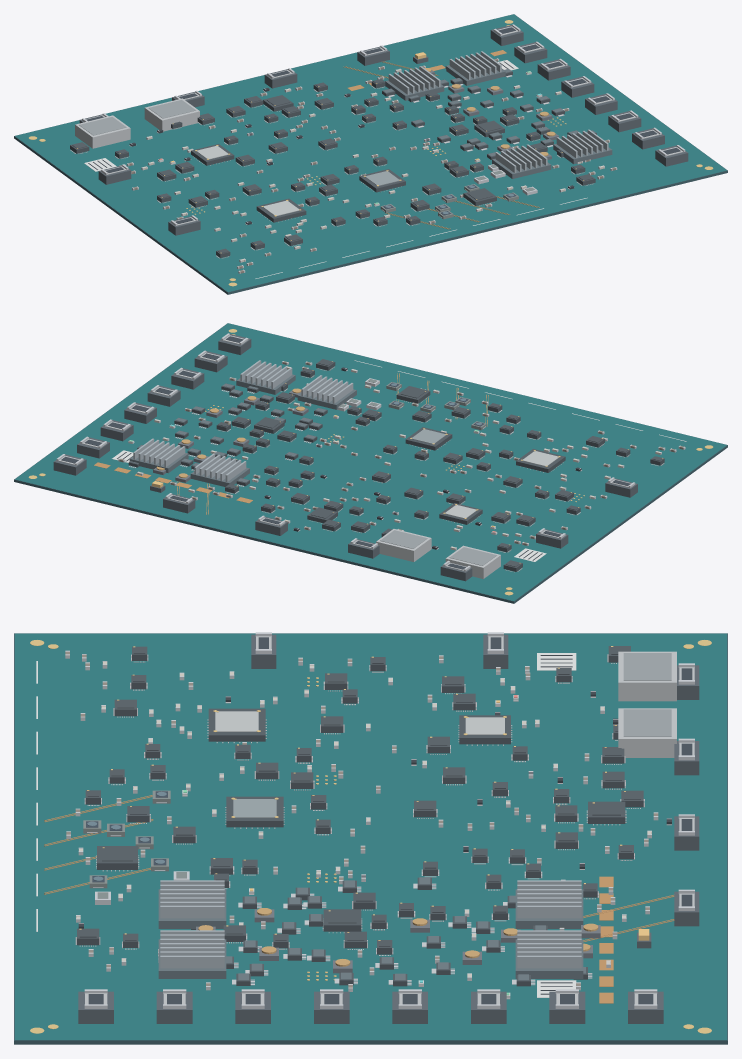
Rendered from 337_L121_AssembledReference.glb.
The picture shows the model from 3 angles, top to bottom: view 1: azimuth 30°, elevation 25°; view 2: azimuth 150°, elevation 25°; view 3: azimuth 270°, elevation 25°; orthographic projection. The views are drawn at different scales.
Parts seen in each view (by area): view 1: solder_mask__PSMAT__solder_mask, black_ic__PSMAT__black_ic, connector_housing__PSMAT__connector_housing, heat_sink__PSMAT__heat_sink, tin__PSMAT__tin, pcb_core__PSMAT__pcb_core, heat_sink_black__PSMAT__heat_sink_black, shield__PSMAT__shield, silver__PSMAT__silver, shield_dark__PSMAT__shield_dark, optic_black__PSMAT__optic_black, resistor__PSMAT__resistor (+7 smaller); view 2: solder_mask__PSMAT__solder_mask, black_ic__PSMAT__black_ic, connector_housing__PSMAT__connector_housing, heat_sink__PSMAT__heat_sink, tin__PSMAT__tin, pcb_core__PSMAT__pcb_core, heat_sink_black__PSMAT__heat_sink_black, shield__PSMAT__shield, silver__PSMAT__silver, shield_dark__PSMAT__shield_dark, optic_black__PSMAT__optic_black, resistor__PSMAT__resistor (+7 smaller); view 3: solder_mask__PSMAT__solder_mask, black_ic__PSMAT__black_ic, connector_housing__PSMAT__connector_housing, heat_sink__PSMAT__heat_sink, tin__PSMAT__tin, heat_sink_black__PSMAT__heat_sink_black, pcb_core__PSMAT__pcb_core, shield__PSMAT__shield, silver__PSMAT__silver, shield_dark__PSMAT__shield_dark, copper__PSMAT__copper, optic_black__PSMAT__optic_black (+10 smaller).
Boxes of the visible parts, <box> form: solder_mask__PSMAT__solder_mask: <box>15,14,726,292</box>; black_ic__PSMAT__black_ic: <box>70,69,596,257</box>; connector_housing__PSMAT__connector_housing: <box>79,25,688,235</box>; heat_sink__PSMAT__heat_sink: <box>388,51,608,172</box>; tin__PSMAT__tin: <box>70,58,617,273</box>; pcb_core__PSMAT__pcb_core: <box>14,14,727,294</box>; heat_sink_black__PSMAT__heat_sink_black: <box>383,65,612,178</box>; shield__PSMAT__shield: <box>75,26,682,225</box>; silver__PSMAT__silver: <box>82,24,685,225</box>; shield_dark__PSMAT__shield_dark: <box>79,100,195,135</box>; optic_black__PSMAT__optic_black: <box>86,27,680,223</box>; resistor__PSMAT__resistor: <box>121,58,615,273</box>; solder_mask__PSMAT__solder_mask: <box>15,323,726,601</box>; black_ic__PSMAT__black_ic: <box>128,359,664,571</box>; connector_housing__PSMAT__connector_housing: <box>53,334,637,581</box>; heat_sink__PSMAT__heat_sink: <box>133,360,353,481</box>; tin__PSMAT__tin: <box>118,361,685,572</box>; pcb_core__PSMAT__pcb_core: <box>14,323,727,603</box>; heat_sink_black__PSMAT__heat_sink_black: <box>129,374,356,486</box>; shield__PSMAT__shield: <box>59,335,631,578</box>; silver__PSMAT__silver: <box>56,333,635,571</box>; shield_dark__PSMAT__shield_dark: <box>380,530,496,565</box>; optic_black__PSMAT__optic_black: <box>61,336,630,569</box>; resistor__PSMAT__resistor: <box>119,361,683,545</box>; solder_mask__PSMAT__solder_mask: <box>15,633,726,1040</box>; black_ic__PSMAT__black_ic: <box>77,646,643,986</box>; connector_housing__PSMAT__connector_housing: <box>78,634,699,1023</box>; heat_sink__PSMAT__heat_sink: <box>160,880,581,968</box>; tin__PSMAT__tin: <box>65,650,671,998</box>; heat_sink_black__PSMAT__heat_sink_black: <box>158,877,585,980</box>; pcb_core__PSMAT__pcb_core: <box>14,633,727,1044</box>; shield__PSMAT__shield: <box>85,636,694,1004</box>; silver__PSMAT__silver: <box>78,632,694,1008</box>; shield_dark__PSMAT__shield_dark: <box>623,653,671,736</box>; copper__PSMAT__copper: <box>44,795,674,1003</box>; optic_black__PSMAT__optic_black: <box>88,637,692,1004</box>.
Bounding box in the file's own units: 0.54 × 0.0162 × 0.4.
